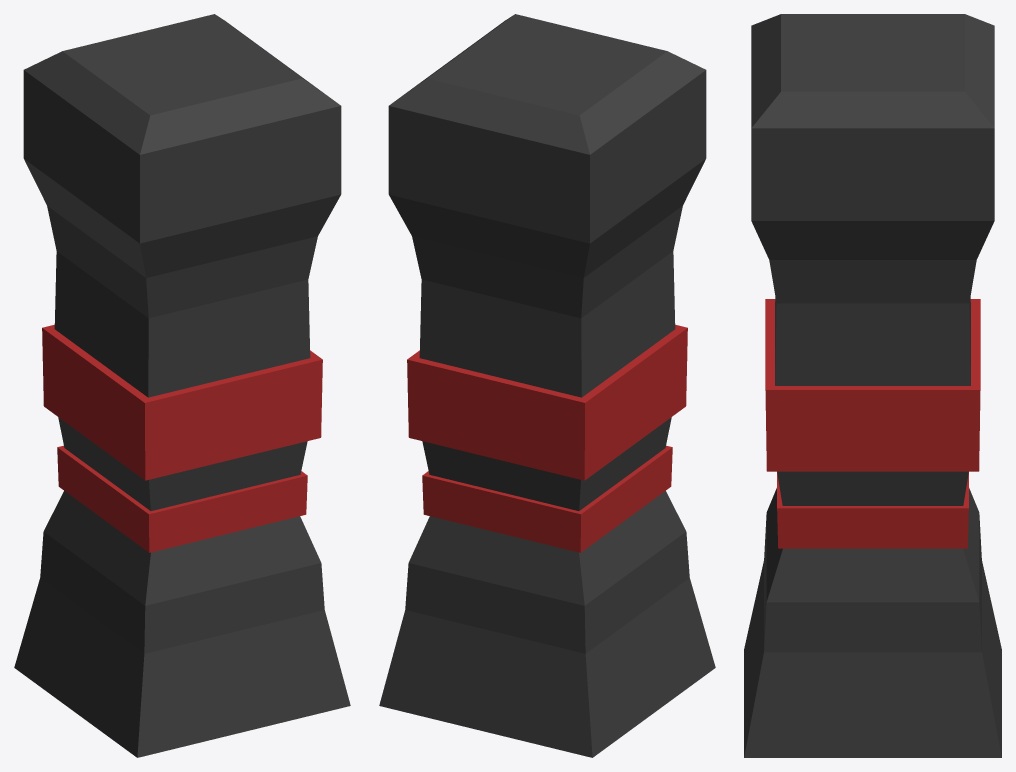
Rendered from Pillar02D.fbx.
3 views of the same model, side by side, from view 1: azimuth 30°, elevation 25°; view 2: azimuth 150°, elevation 25°; view 3: azimuth 270°, elevation 25° (orthographic). The views are drawn at different scales.
Parts seen in each view (by area): view 1: Pillar02D; view 2: Pillar02D; view 3: Pillar02D.
Boxes of the visible parts, bbox=[...] form: Pillar02D: bbox=[14, 14, 350, 757]; Pillar02D: bbox=[379, 14, 715, 757]; Pillar02D: bbox=[744, 14, 1001, 757].
Size of the model in its own units: 151 by 421 by 151.
